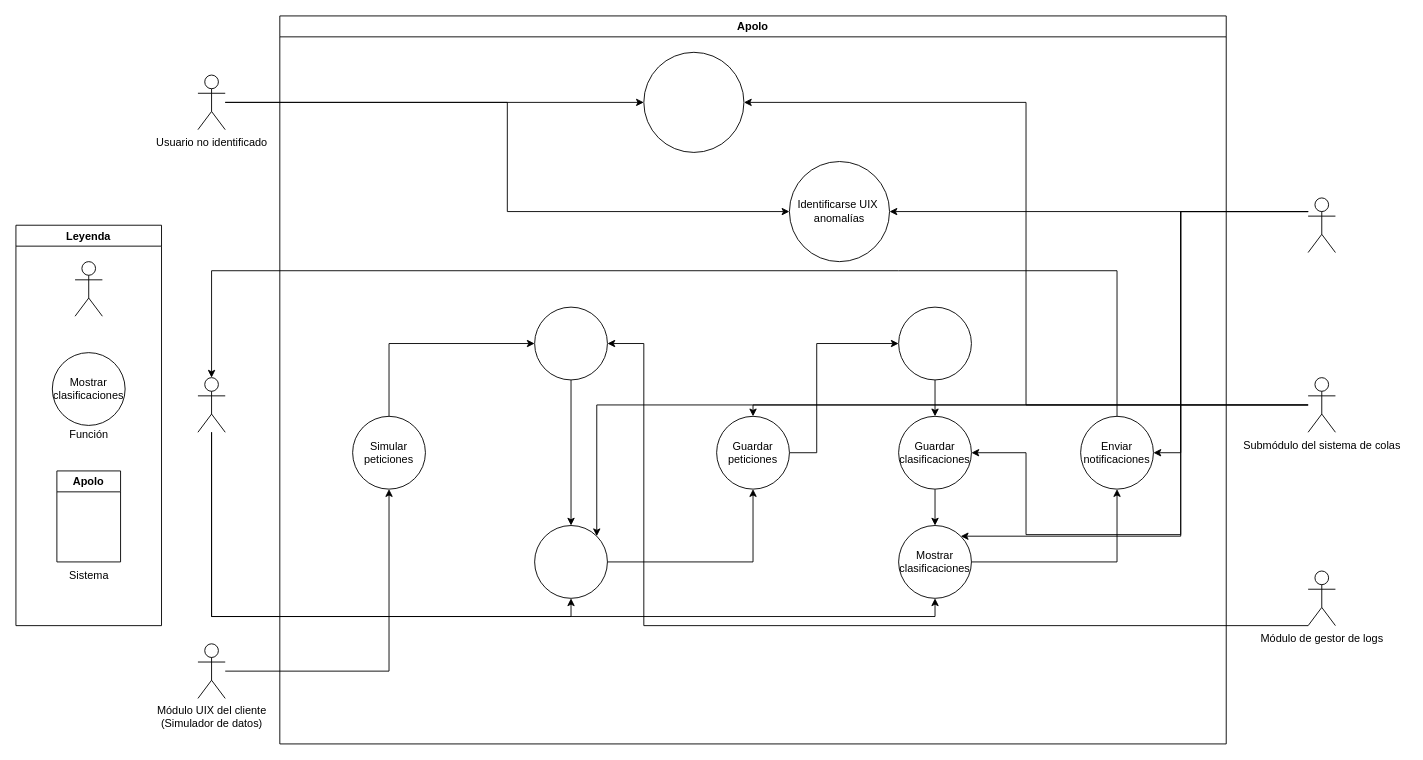
This 1423x760 diagram has some shape labels left out. Here are the shapes that lost their labels. From the top down, the box of each, then its label:
(643, 51, 744, 152): Identificarse UIX monitorización
(1307, 197, 1335, 253): Submódulo de gestor de anomalías
(74, 261, 102, 316): Actor
(534, 306, 607, 380): Tratar las peticiones
(898, 306, 971, 380): Clasificar peticiones
(197, 377, 225, 432): Usuario identificado (Administrador)
(534, 525, 607, 598): Monitorizar peticiones
